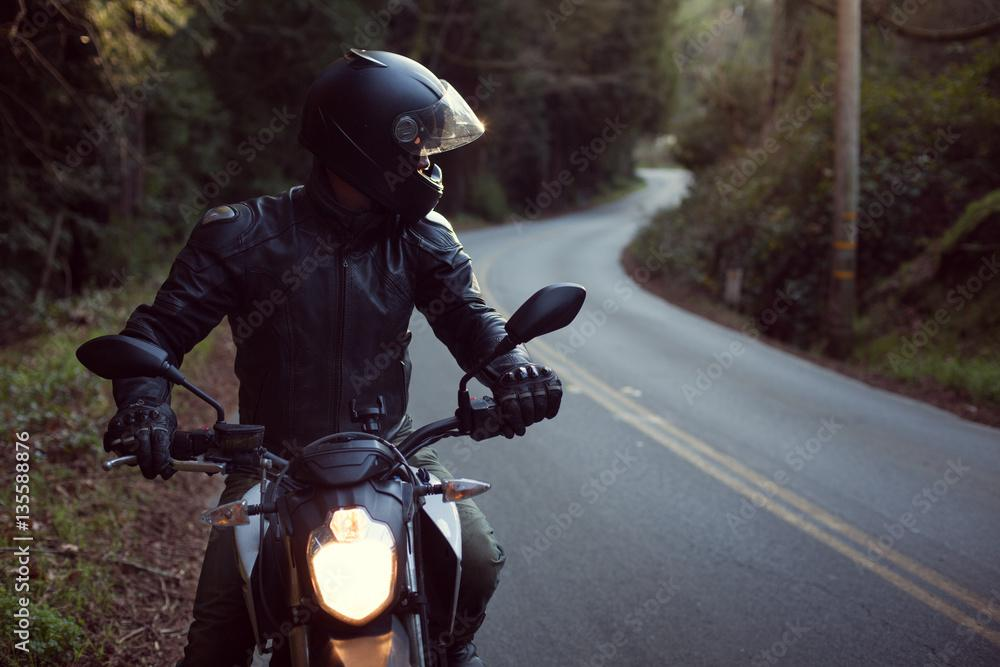helmet: (296, 47, 487, 227)
